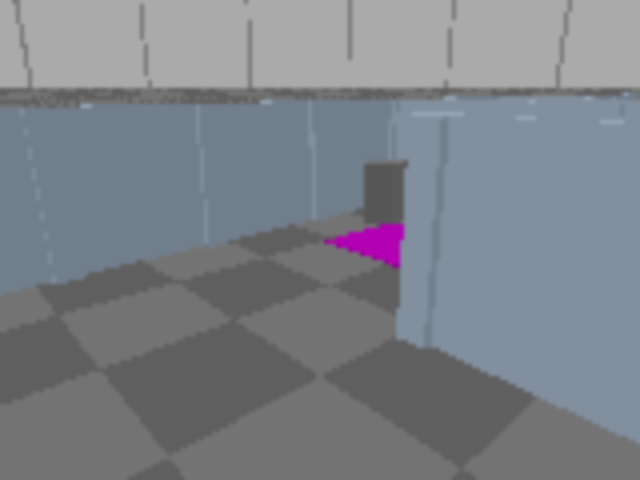goal_zone: (326, 222, 473, 271)
obstacle: (363, 158, 408, 227)
